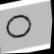no answer: (2, 8, 41, 42)
